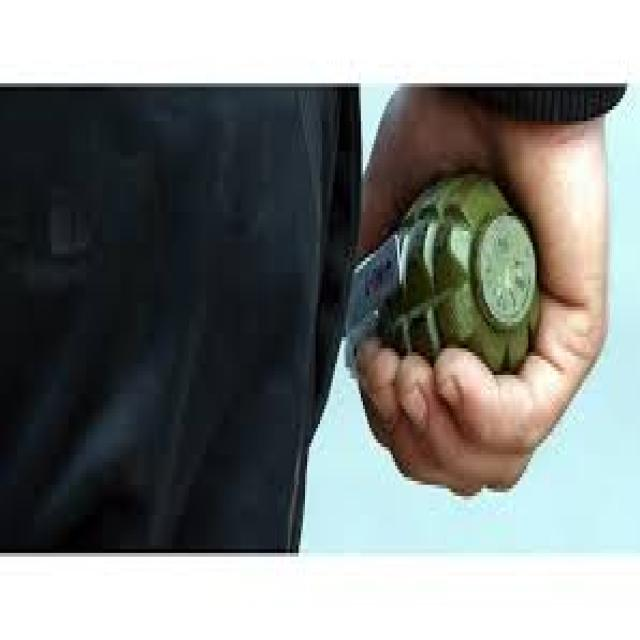grenade: (337, 168, 545, 385)
